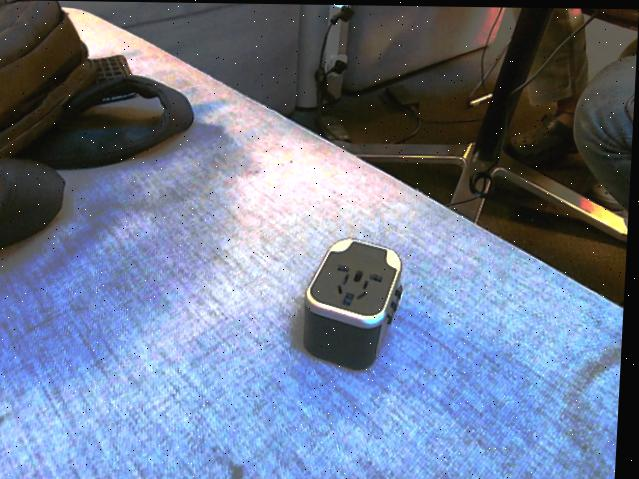adapter: (303, 236, 409, 371)
